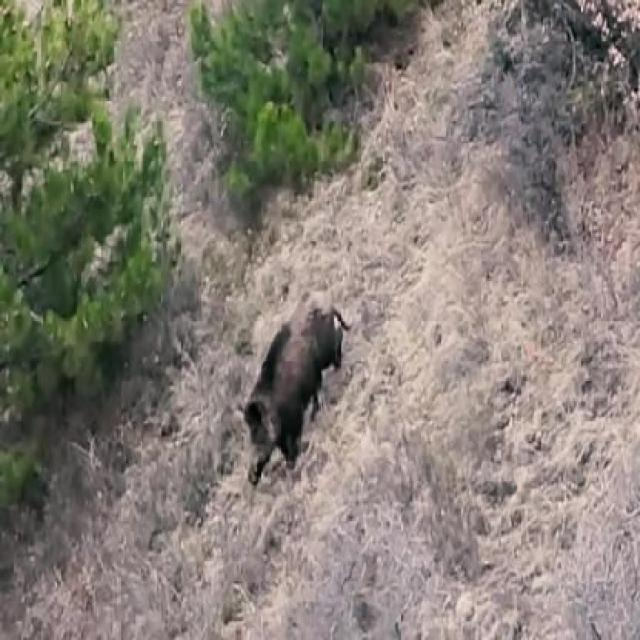pig: (226, 300, 363, 499)
